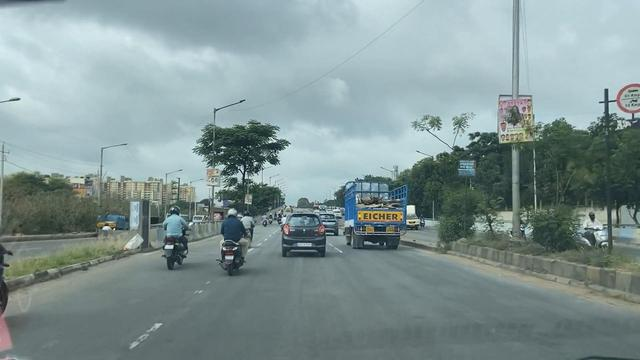HMV: (347, 182, 408, 248)
LMV: (221, 209, 250, 279), (283, 214, 326, 251), (170, 214, 191, 264)
